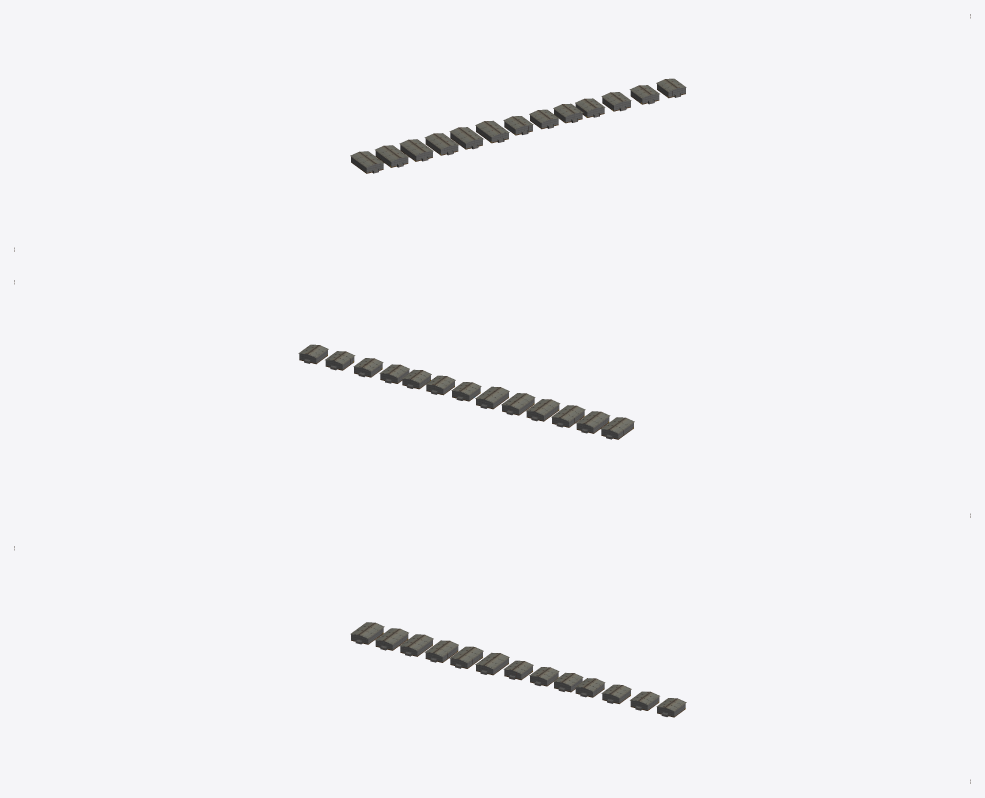
File: free_fire_lone_wolf_mode_3d_model.glb
3 views of the same model, one above another, from view 1: azimuth 30°, elevation 25°; view 2: azimuth 150°, elevation 25°; view 3: azimuth 330°, elevation 25° (orthographic).
Visible parts, largest first — view 1: Object_42; view 2: Object_42; view 3: Object_42.
Boxes of the visible parts, x1,y1,x2,y2 form: Object_42: (350, 78, 686, 167); Object_42: (298, 344, 634, 433); Object_42: (350, 622, 686, 711).
Bounding box in the file's own units: 1601 × 14.15 × 51.93.
7 materials, 5 textured.
